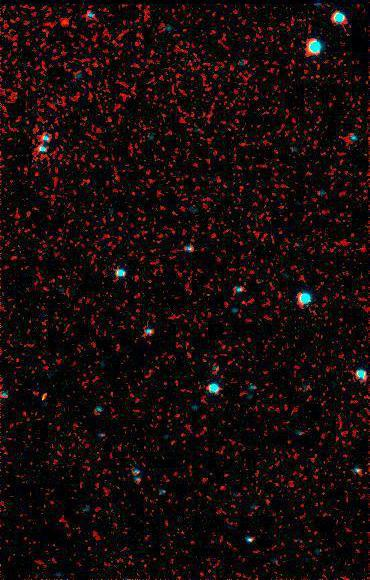star: (50, 8, 80, 38)
